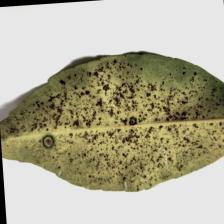canker: (58, 82, 179, 177)
